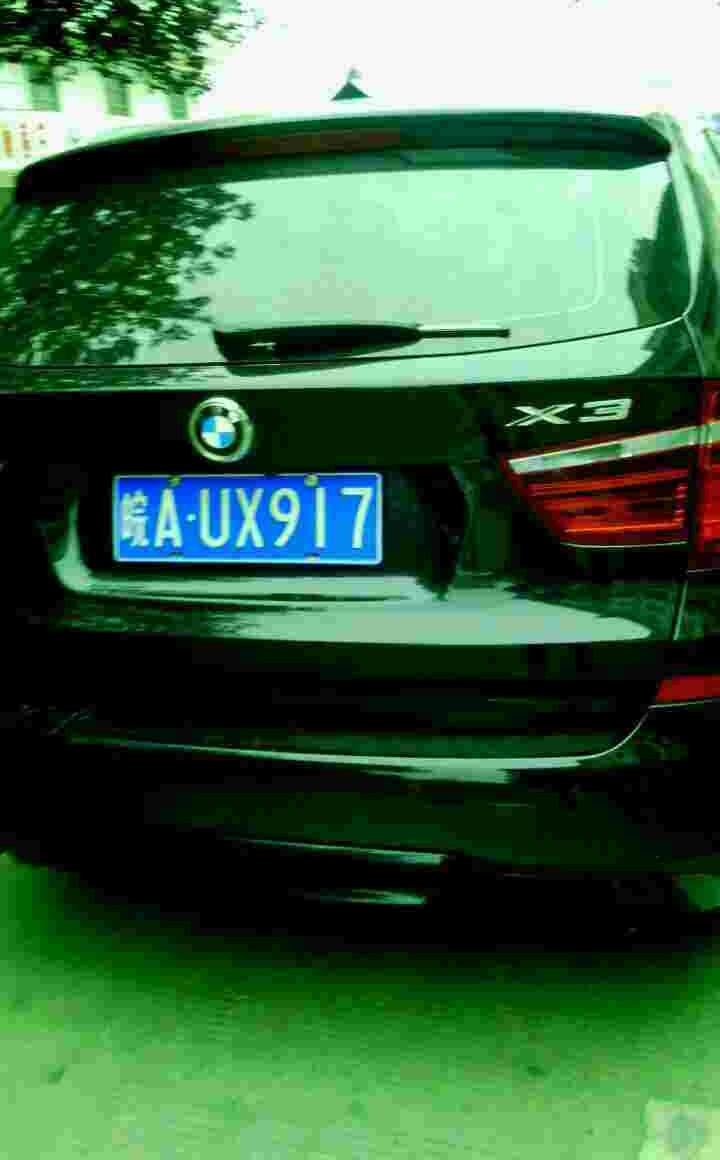license_plate: (115, 475, 379, 565)
